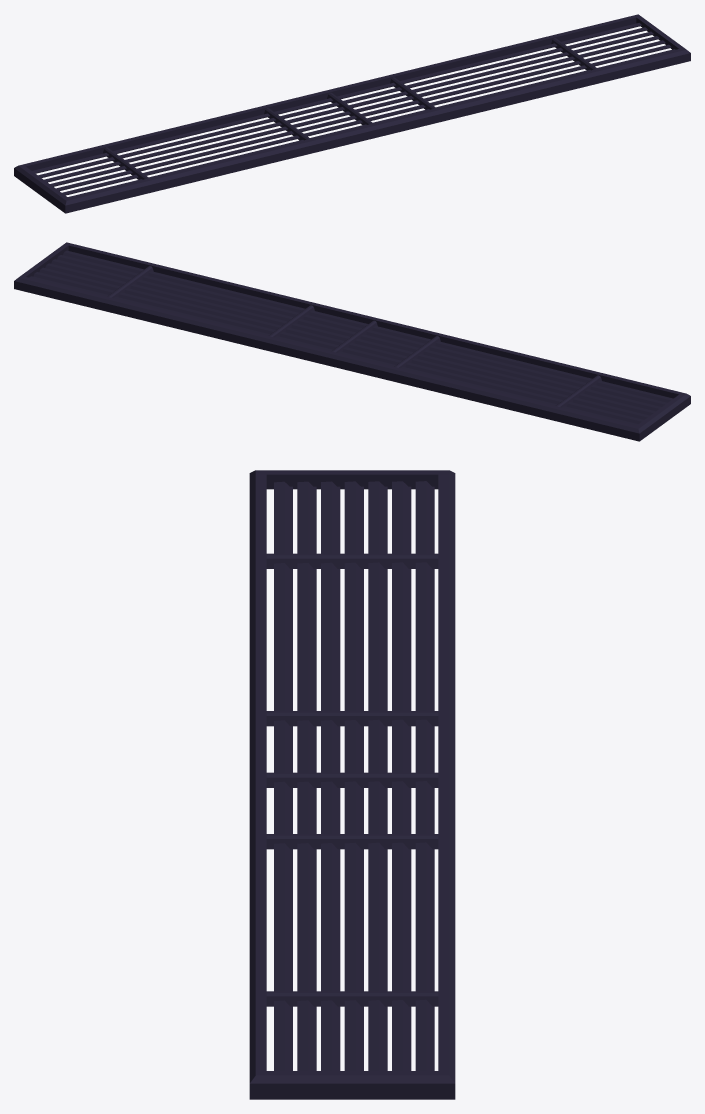
Rendered from Grille.fbx.
3 renders of one model, top to bottom at view 1: azimuth 30°, elevation 25°; view 2: azimuth 150°, elevation 25°; view 3: azimuth 270°, elevation 25°, orthographic. The views are drawn at different scales.
Parts seen in each view (by area): view 1: Grille; view 2: Grille; view 3: Grille.
Part boxes in pixels (left/top/right/bottom): Grille: left=14, top=14, right=690, bottom=213; Grille: left=14, top=242, right=690, bottom=441; Grille: left=249, top=470, right=455, bottom=1099.
Size of the model in its own units: 249 by 4.12 by 35.45.
